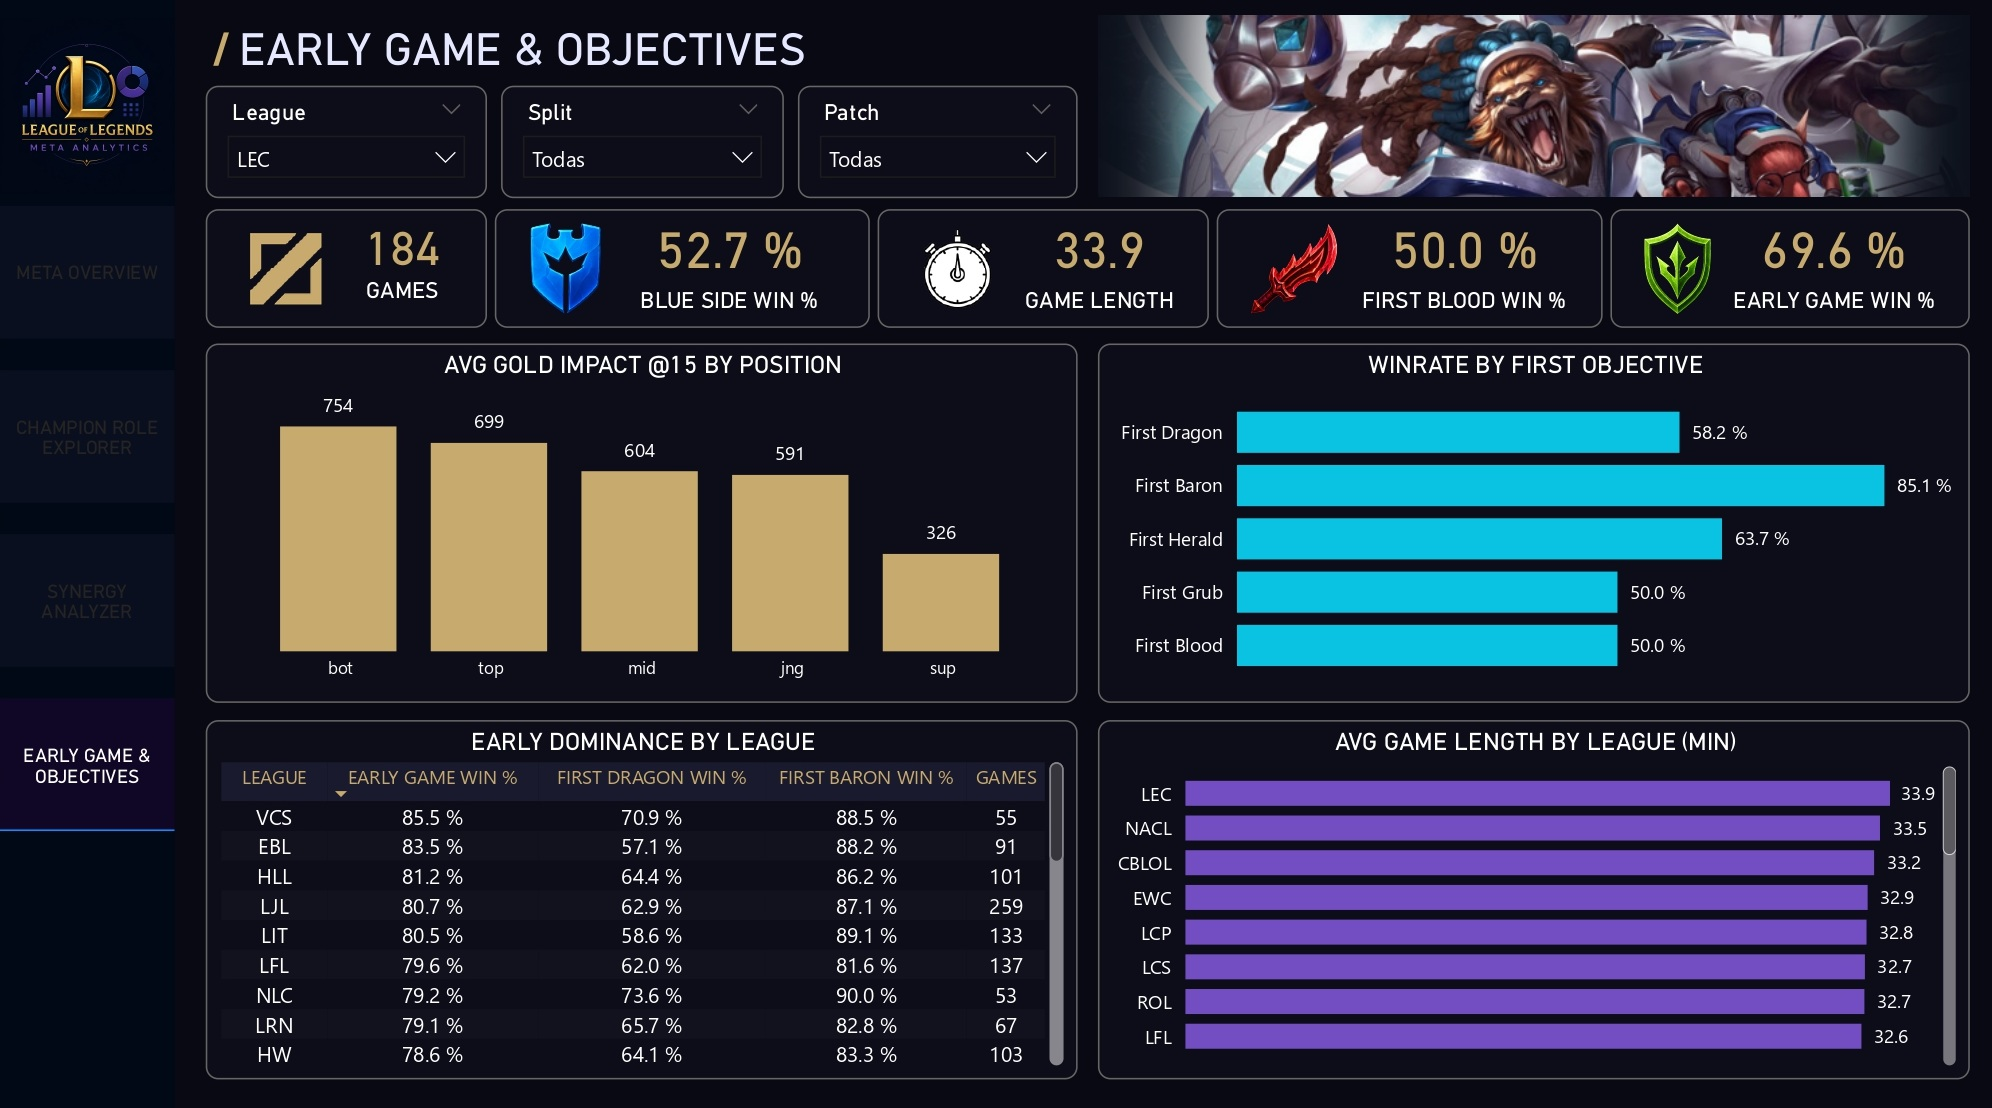

What the dashboard file says about the page in this screenshot:
{"tool":"powerbi","page":{"name":"EARLY GAME & OBJECTIVES","canvas":[1280,720],"ordinal":3},"visuals":[{"type":"image","box":[703.1,13.7,558.3,116.4],"z":0},{"type":"cardVisual","fields":{"Data":["_4.First Blood Win%"]},"box":[779.3,137.9,246.4,76.3],"z":1000},{"type":"cardVisual","fields":{"Data":["_4.Blue Side Win%"]},"box":[316.8,137.9,240.6,76.3],"z":2000},{"type":"cardVisual","fields":{"Data":["Avg(Dim_Game.gamelength_min)"]},"box":[562.3,137.9,212.2,76.3],"z":3000},{"type":"slicer","fields":{"Values":["Dim_League.league"]},"box":[132.1,59.2,179.5,72],"z":4000},{"type":"slicer","fields":{"Values":["Fact_ChampionStats.split"]},"box":[321.5,59.2,180.5,72],"z":5000},{"type":"clusteredColumnChart","title":"AVG GOLD IMPACT @15 BY POSITION","fields":{"Y":["_4.Avg Gold Diff 15"],"Category":["Fact_PlayerGame.position"]},"box":[132,223.9,558.3,229.8],"z":6000},{"type":"shape","box":[0,0,111.6,719.9],"z":7000,"group":"g1"},{"type":"textbox","box":[132,13.7,558.3,44],"z":7000},{"type":"group","id":"g1","title":"Grupo 1","box":[0,0,111.6,719.9],"z":8000},{"type":"slicer","fields":{"Values":["Fact_ChampionStats.patch"]},"box":[510.8,59.2,179.5,72],"z":9000},{"type":"cardVisual","fields":{"Data":["_4.Early Game Win%"]},"box":[1030.6,137.9,230.8,76.3],"z":10000},{"type":"pageNavigator","box":[0,135.7,111.6,400.4],"z":12000,"group":"g1"},{"type":"clusteredBarChart","title":"WINRATE BY FIRST OBJECTIVE","fields":{"Category":["Dim_Objectives.Objetivo"],"Y":["_4.WR By Objective"]},"box":[703.1,223.9,558.3,229.8],"z":12000},{"type":"image","box":[0,13.5,111.6,116.5],"z":13000,"group":"g1"},{"type":"cardVisual","fields":{"Data":["_1.Total Games"]},"box":[132,137.9,179.9,76.3],"z":14000},{"type":"tableEx","title":"EARLY DOMINANCE BY LEAGUE","fields":{"Values":["Fact_TeamGame.league","_4.Early Game Win%","_4.First Dragon Win%","_4.WR First Baron","_4.Games by League"]},"box":[132.1,465.5,558.2,229.8],"z":14001},{"type":"clusteredBarChart","title":"AVG GAME LENGTH BY LEAGUE (MIN)","fields":{"Category":["Fact_TeamGame.league"],"Y":["_4.Avg Game Length League"]},"box":[703.1,465.5,558.2,229.8],"z":14002}]}

Visuals, with their boxes on the page's 1280x720 design canvas (x1, y1, x2, y2). These are canvas units, not pixel positions in the 1992x1108 screenshot, which may show the page scaled, cropped or inside an application window:
image: bbox=(703, 14, 1261, 130)
cardVisual - _4.First Blood Win%: bbox=(779, 138, 1026, 214)
cardVisual - _4.Blue Side Win%: bbox=(317, 138, 557, 214)
cardVisual - Avg(Dim_Game.gamelength_min): bbox=(562, 138, 774, 214)
slicer - Dim_League.league: bbox=(132, 59, 312, 131)
slicer - Fact_ChampionStats.split: bbox=(322, 59, 502, 131)
"AVG GOLD IMPACT @15 BY POSITION" clusteredColumnChart: bbox=(132, 224, 690, 454)
shape: bbox=(0, 0, 112, 720)
textbox: bbox=(132, 14, 690, 58)
"Grupo 1" group: bbox=(0, 0, 112, 720)
slicer - Fact_ChampionStats.patch: bbox=(511, 59, 690, 131)
cardVisual - _4.Early Game Win%: bbox=(1031, 138, 1261, 214)
pageNavigator: bbox=(0, 136, 112, 536)
"WINRATE BY FIRST OBJECTIVE" clusteredBarChart: bbox=(703, 224, 1261, 454)
image: bbox=(0, 14, 112, 130)
cardVisual - _1.Total Games: bbox=(132, 138, 312, 214)
"EARLY DOMINANCE BY LEAGUE" tableEx: bbox=(132, 466, 690, 695)
"AVG GAME LENGTH BY LEAGUE (MIN)" clusteredBarChart: bbox=(703, 466, 1261, 695)
